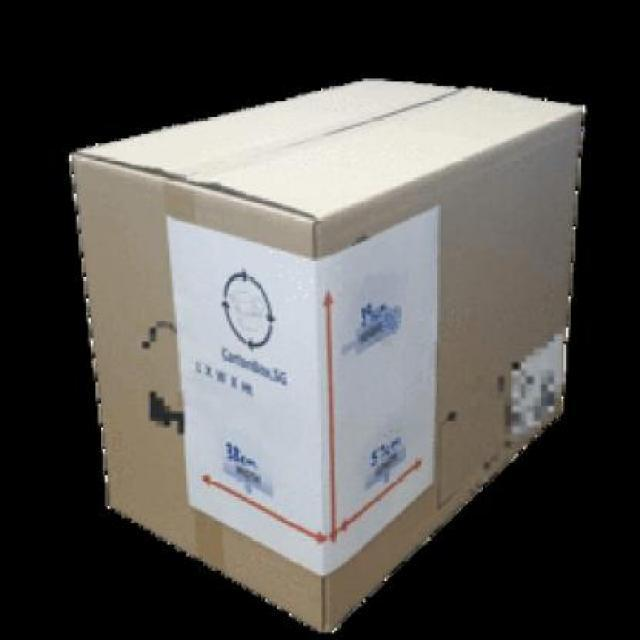box: (67, 74, 583, 626)
